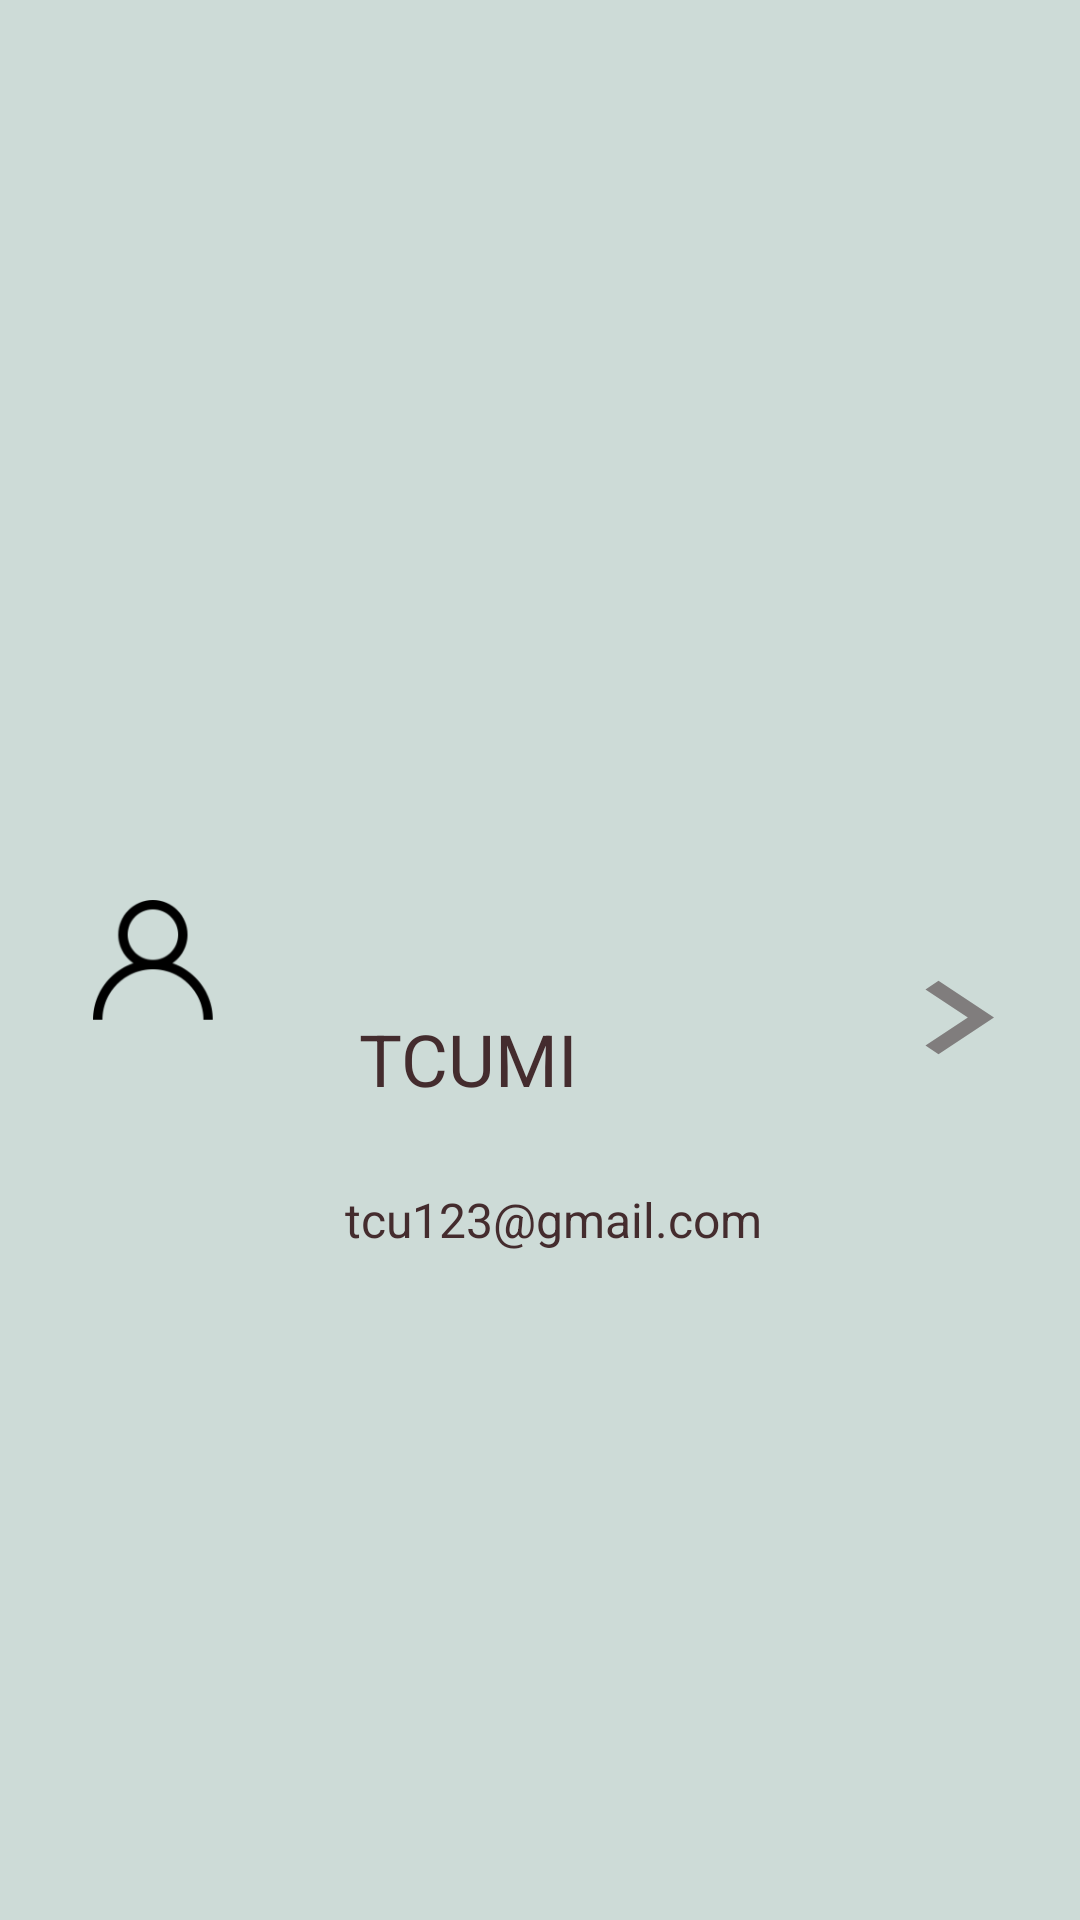

Named icons in this screenshot (1080×1920) and their bounding boxes, (x1, y1, x2, y2):
keyboard arrow right: (926, 981, 994, 1054)
user: (93, 900, 213, 1020)
